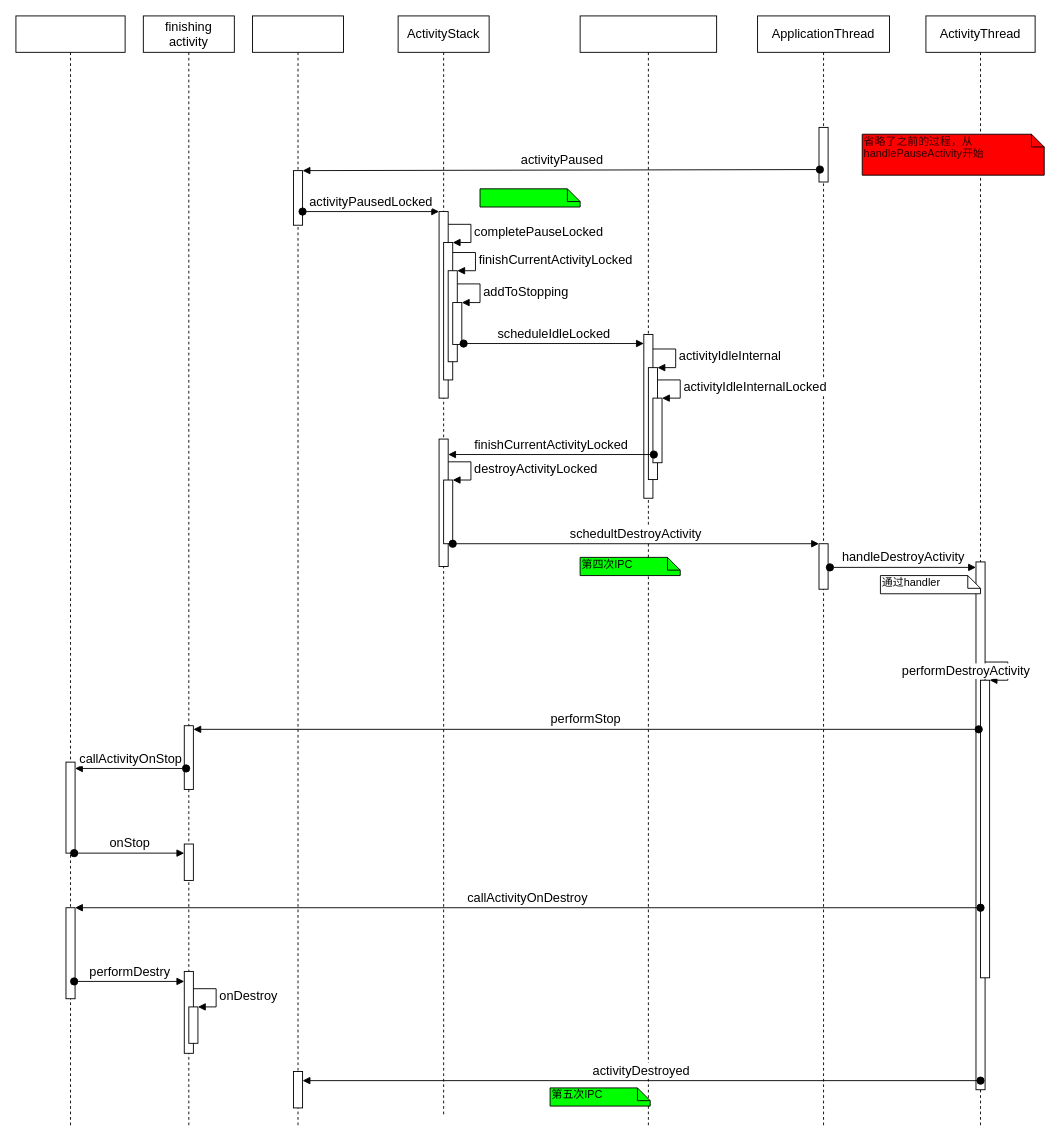
The diagram is 1060 pixels wide and 1142 high, and some of its shapes have lost their labels. Each missing label, with the box of its shape:
ActivityStackSupervisior: (579, 15, 717, 1126)
AMS: (252, 15, 344, 1126)
Instrumentation: (15, 15, 125, 1126)
第三次IPC: (479, 188, 580, 207)
